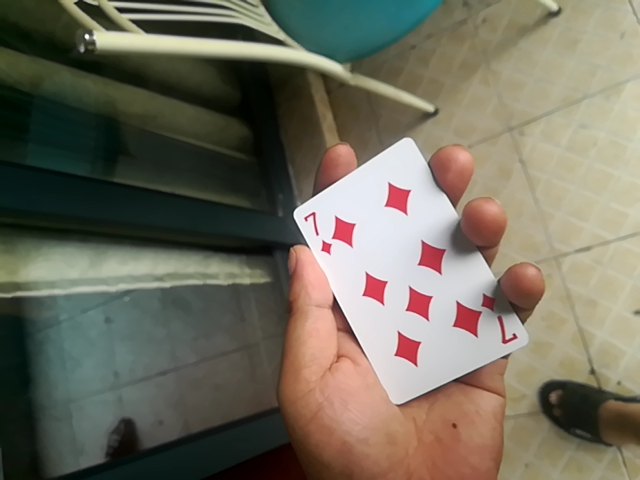fk 7: (303, 136, 517, 400)
